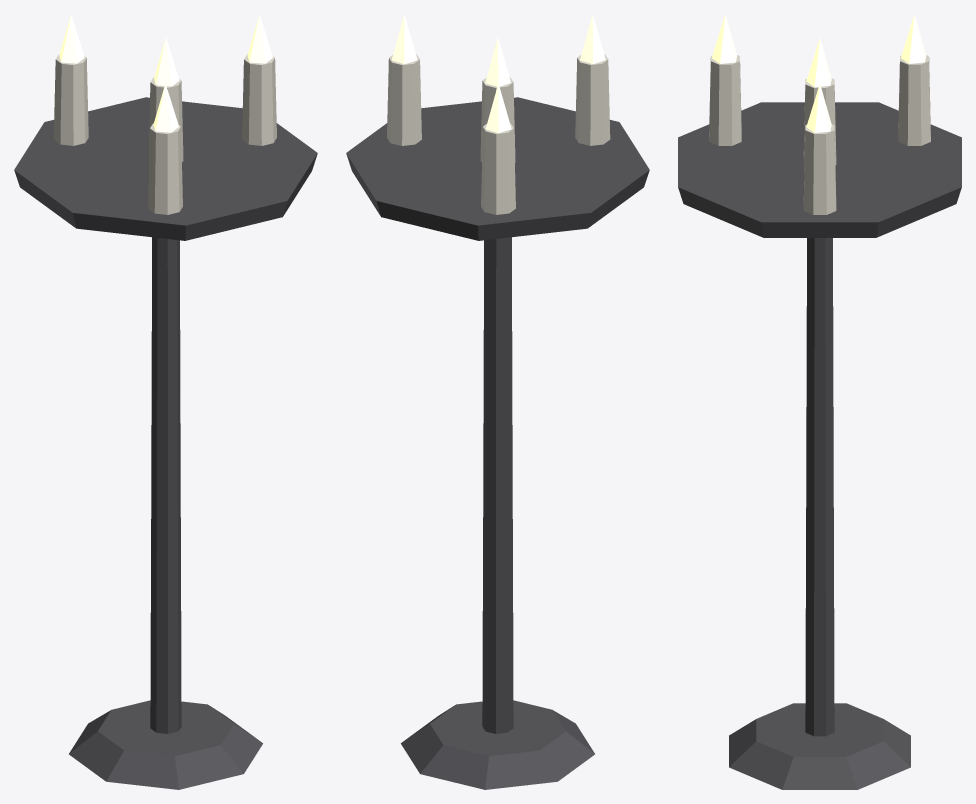
Rendered from crypt_candelabrum.glb.
3 renders of one model, left to right at view 1: azimuth 30°, elevation 25°; view 2: azimuth 150°, elevation 25°; view 3: azimuth 270°, elevation 25°, orthographic.
Parts seen in each view (by area): view 1: crypt_candelabrum; view 2: crypt_candelabrum; view 3: crypt_candelabrum.
Part boxes in pixels (x1,y1,x2,y2): crypt_candelabrum: [14, 14, 317, 789]; crypt_candelabrum: [346, 14, 649, 789]; crypt_candelabrum: [678, 14, 961, 789].
Size of the model in its own units: 1.44 by 4 by 1.44.
